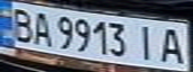1: (90, 18, 112, 56)
3: (106, 20, 130, 58)
9: (51, 12, 75, 51), (69, 16, 93, 53)
A: (154, 25, 190, 65), (27, 9, 54, 47)
B: (3, 5, 39, 44)
I: (133, 21, 163, 62)
